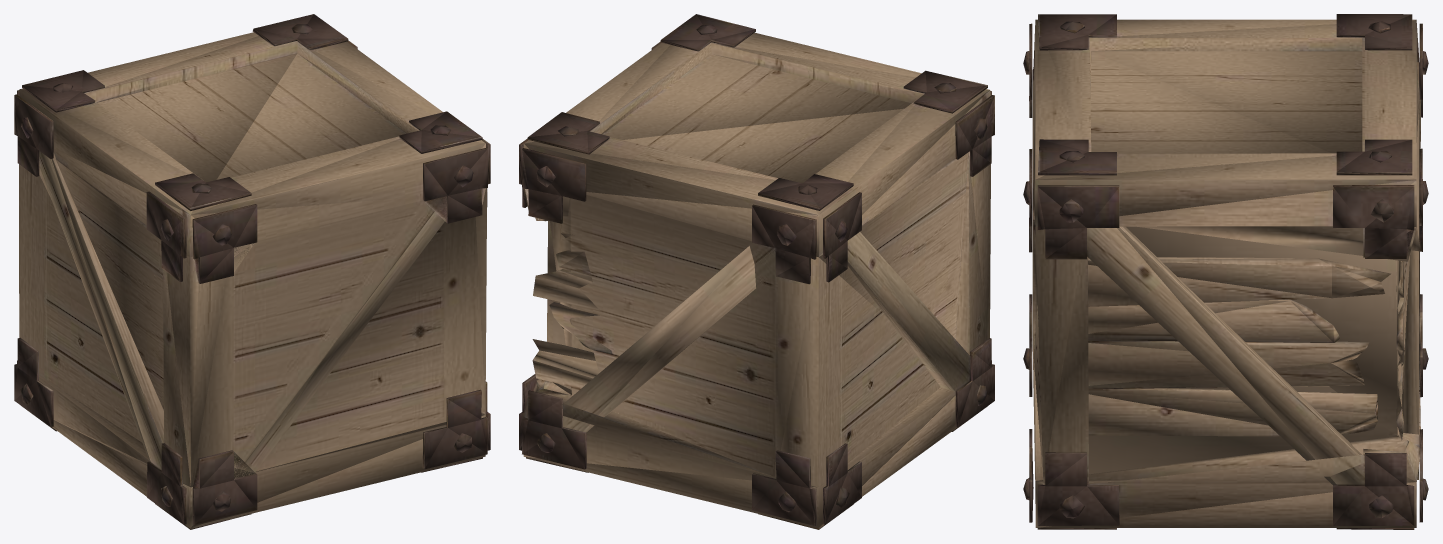
File: crate.glb
3 renders of one model, left to right at view 1: azimuth 30°, elevation 25°; view 2: azimuth 150°, elevation 25°; view 3: azimuth 270°, elevation 25°, orthographic. The views are drawn at different scales.
Visible parts, largest first — view 1: Prop_crate; view 2: Prop_crate; view 3: Prop_crate.
Boxes of the visible parts, x1,y1,x2,y2 form: Prop_crate: [14, 14, 490, 529]; Prop_crate: [519, 14, 994, 529]; Prop_crate: [1023, 14, 1428, 529].
Bounding box in the file's own units: 0.7489 × 0.75 × 0.745.
Materials: 1 (1 with a texture image).
